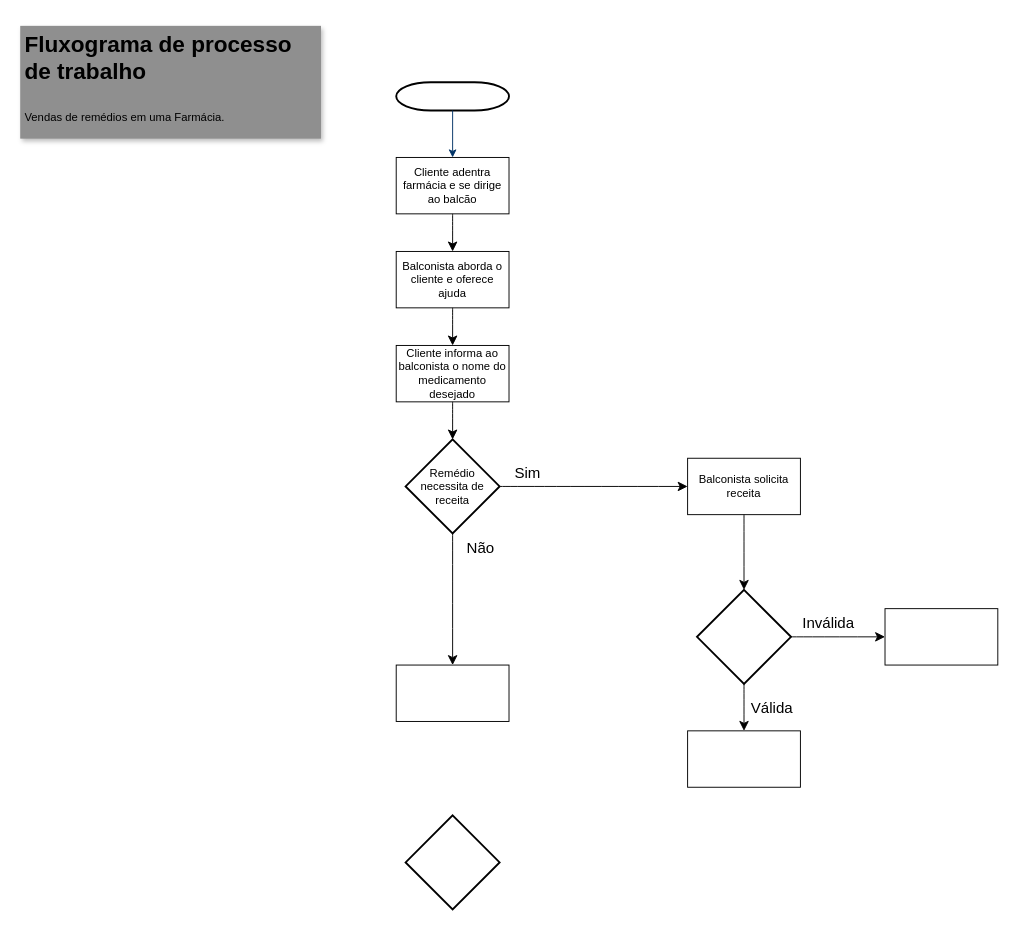
The diagram is 1014 pixels wide and 926 high, and some of its shapes have lost their labels. The shapes that lost their labels are listed below. From the top down, each one's centre as x and y in pixels, then its label:
At (x=452, y=96): "Início".
At (x=743, y=636): "Validação da receita".
At (x=452, y=692): "Consulta disponibilidade no estoque".
